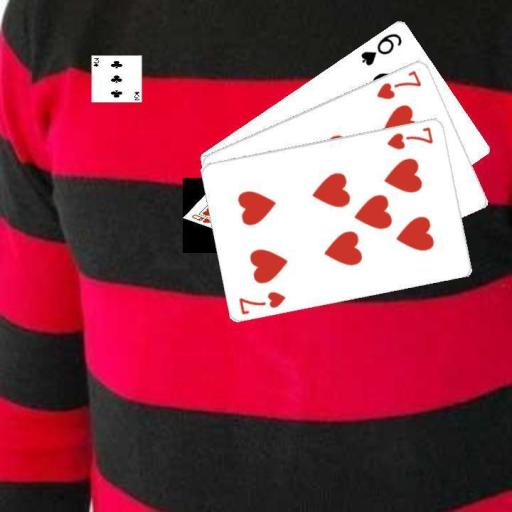card-corner: (358, 29, 404, 67), (373, 67, 423, 101), (236, 287, 288, 316), (384, 123, 435, 151)
